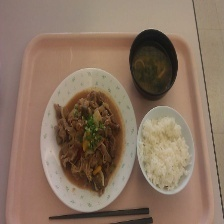rice: (139, 118, 194, 193)
